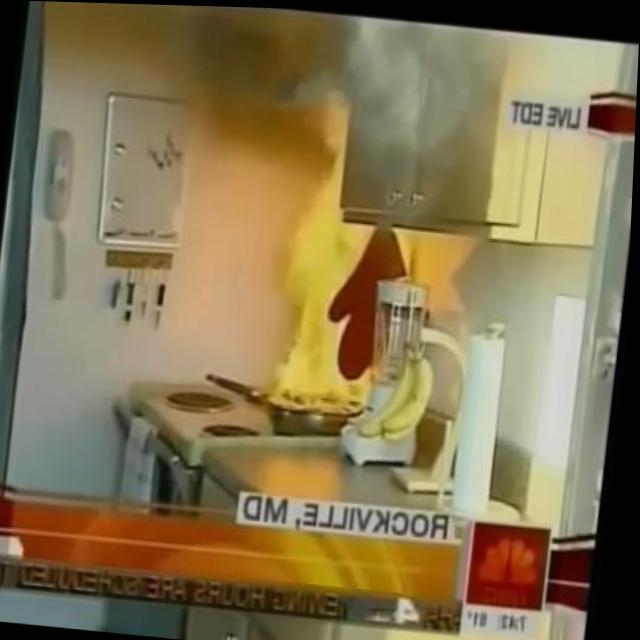fire: (260, 87, 420, 419)
